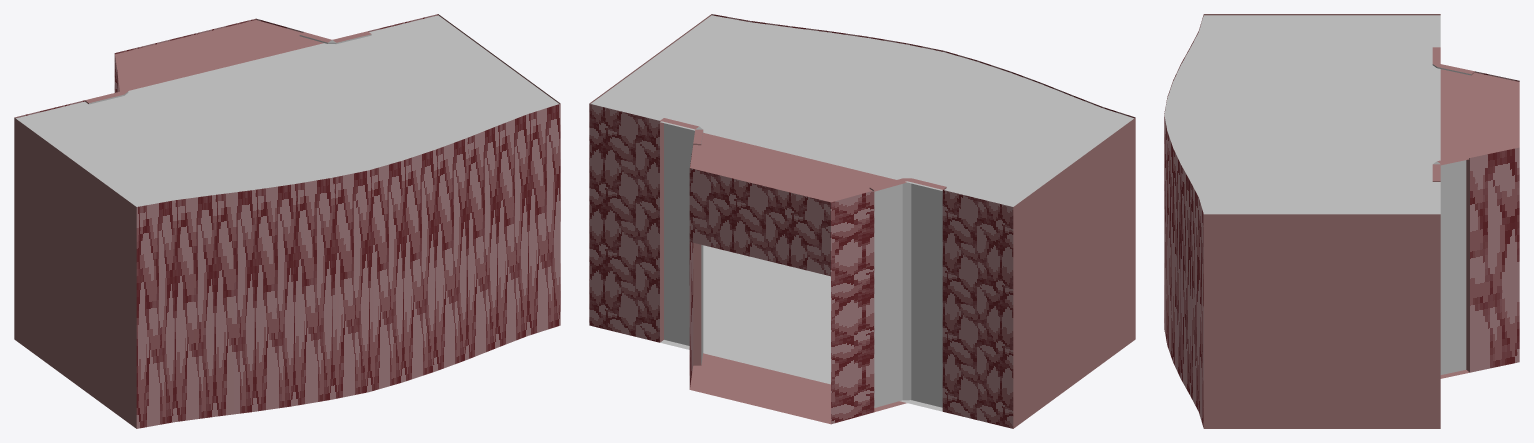
The model's file is EntranceBay.fbx.
3 renders of one model, left to right at view 1: azimuth 30°, elevation 25°; view 2: azimuth 150°, elevation 25°; view 3: azimuth 270°, elevation 25°, orthographic. The views are drawn at different scales.
Parts seen in each view (by area): view 1: pPlane2, pPlane1; view 2: pPlane2, pPlane1; view 3: pPlane2, pPlane1.
Boxes of the visible parts, left/top/right/bottom form: pPlane2: left=14, top=14, right=560, bottom=428; pPlane1: left=16, top=15, right=558, bottom=206; pPlane2: left=589, top=14, right=1135, bottom=428; pPlane1: left=591, top=15, right=1133, bottom=206; pPlane2: left=1164, top=14, right=1519, bottom=428; pPlane1: left=1164, top=15, right=1519, bottom=214.
Bounding box in the file's own units: 12 × 6 × 9.
